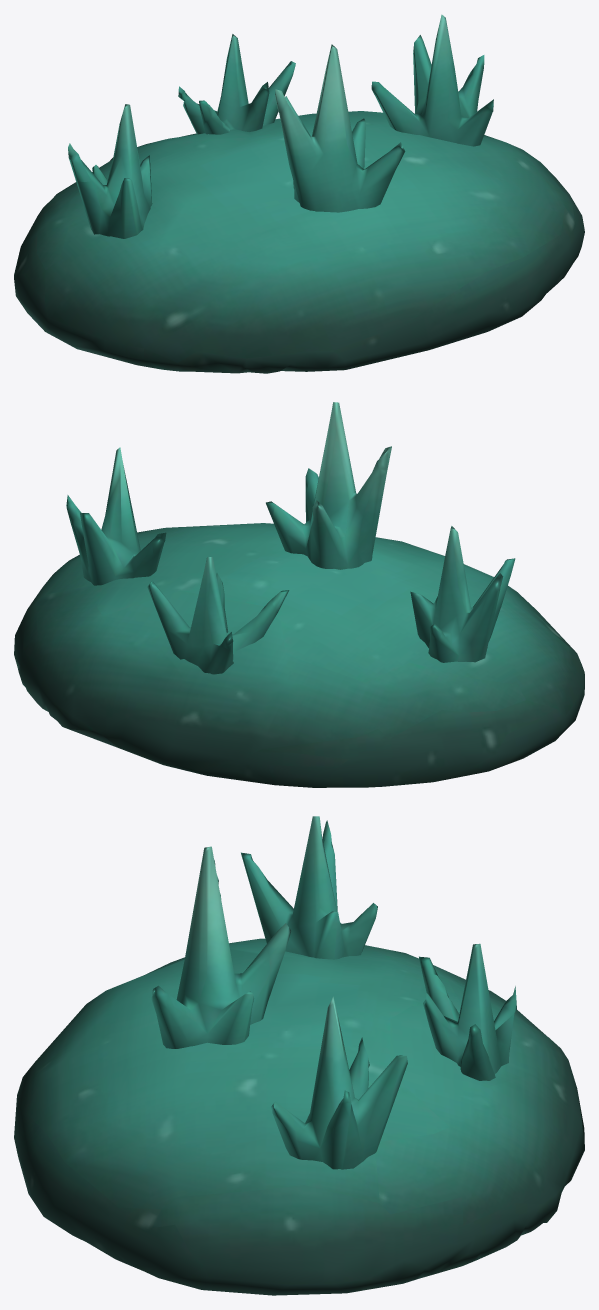
The model's file is moss-tuft.glb.
3 views of the same model, one above another, from view 1: azimuth 30°, elevation 25°; view 2: azimuth 150°, elevation 25°; view 3: azimuth 270°, elevation 25° (orthographic). The views are drawn at different scales.
Visible parts, largest first — view 1: mound; view 2: mound; view 3: mound.
Part boxes in pixels (x1,y1,x2,y2): mound: (14,14,584,373); mound: (14,402,584,787); mound: (14,816,584,1295).
Bounding box in the file's own units: 0.397 × 0.1856 × 0.3188.
1 material, 1 textured.
